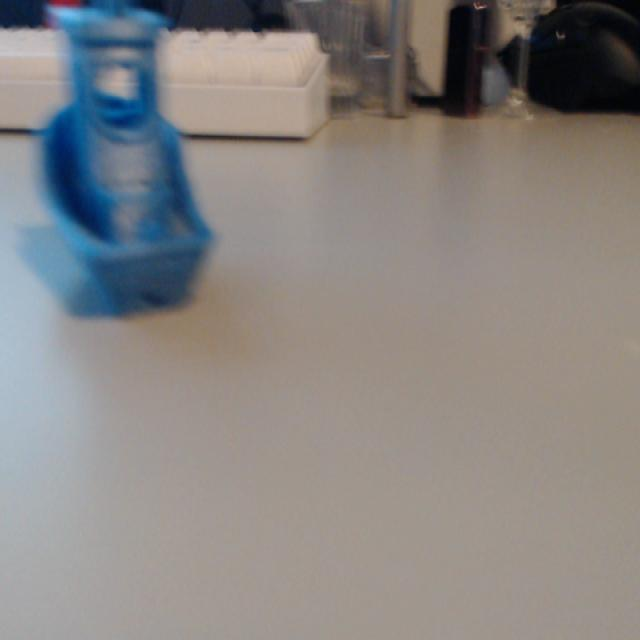benchy: (35, 5, 218, 311)
